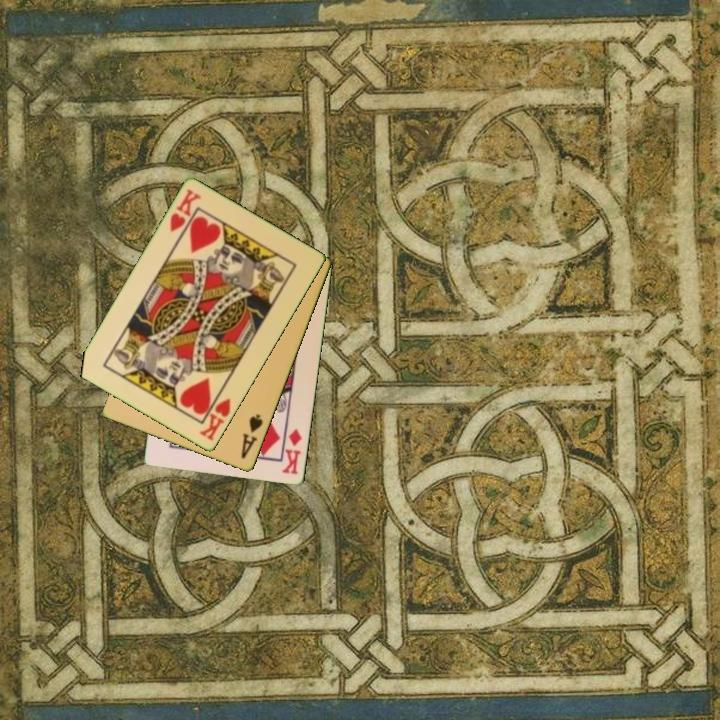As: (238, 411, 266, 462)
Kd: (279, 426, 305, 477)
Kh: (196, 388, 234, 444), (166, 186, 204, 236)
